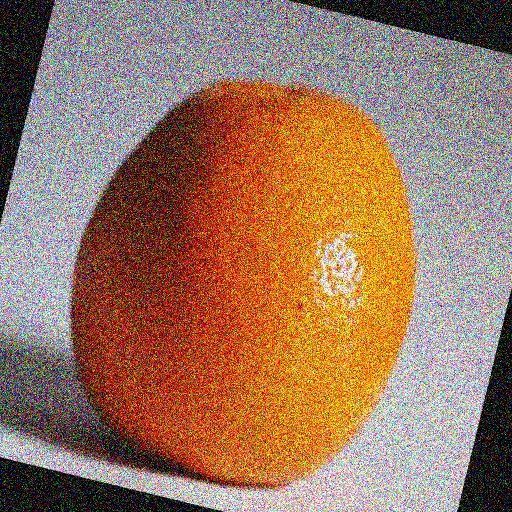fruit: (304, 183, 484, 512)
